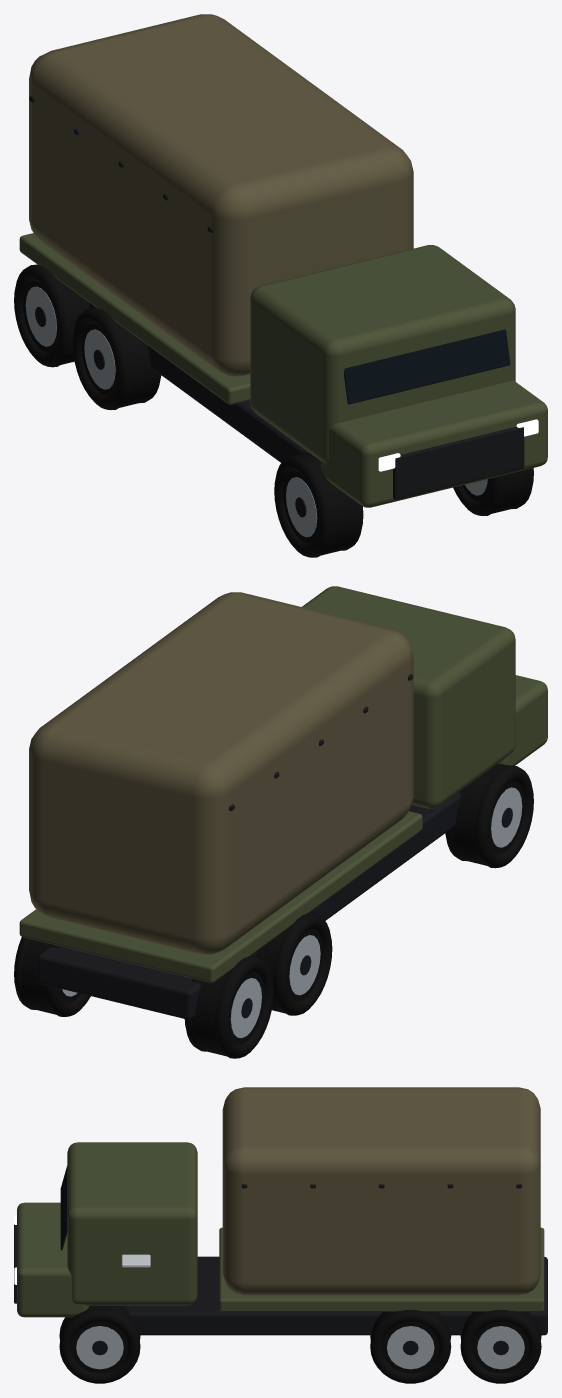
The model's file is Camion_Militar.glb.
3 views of the same model, one above another, from view 1: azimuth 30°, elevation 25°; view 2: azimuth 150°, elevation 25°; view 3: azimuth 270°, elevation 25° (orthographic). The views are drawn at different scales.
Visible parts, largest first — view 1: Camion_Militar; view 2: Camion_Militar; view 3: Camion_Militar.
Boxes of the visible parts, x1=… form: Camion_Militar: x1=14, y1=14, x2=547, y2=557; Camion_Militar: x1=14, y1=586, x2=547, y2=1058; Camion_Militar: x1=14, y1=1087, x2=547, y2=1383.
Size of the model in its own units: 2.8 by 3.48 by 7.39.
